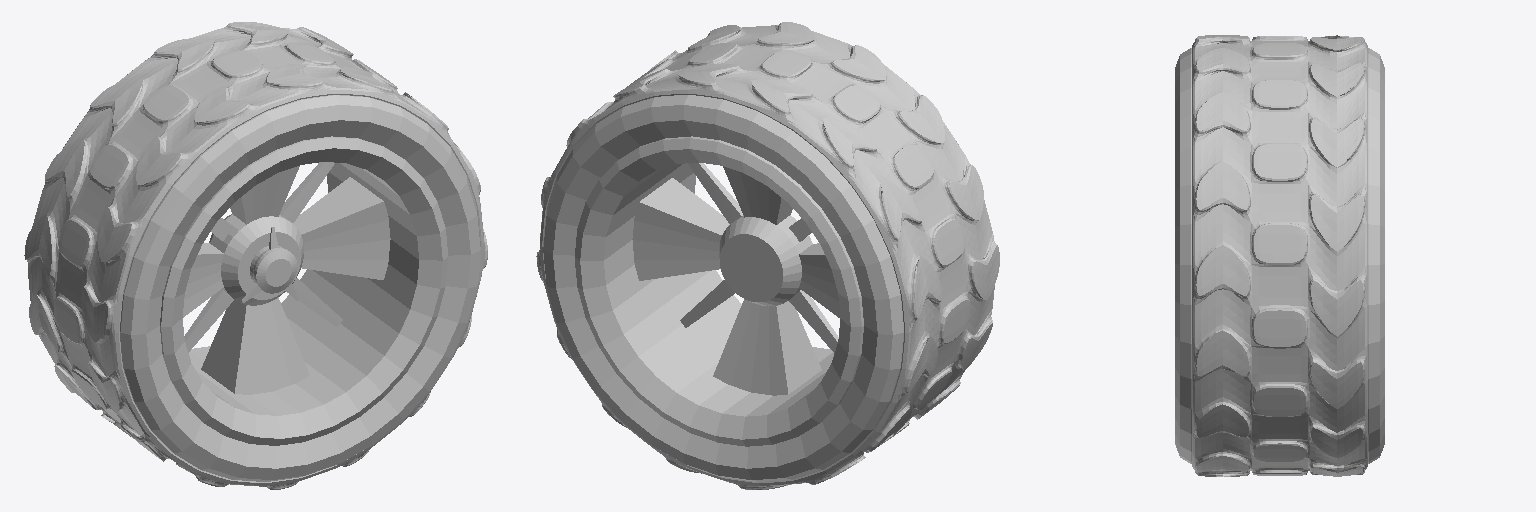
The model's file is wheel.obj.
3 renders of one model, left to right at view 1: azimuth 30°, elevation 25°; view 2: azimuth 150°, elevation 25°; view 3: azimuth 270°, elevation 25°, orthographic.
Parts seen in each view (by area): view 1: Cylinder, Cylinder.001; view 2: Cylinder, Cylinder.001; view 3: Cylinder.001, Cylinder.
Part boxes in pixels (left/top/right/bottom): Cylinder: left=120, top=95, right=480, bottom=481; Cylinder.001: left=24, top=22, right=487, bottom=489; Cylinder: left=543, top=95, right=903, bottom=481; Cylinder.001: left=536, top=22, right=999, bottom=489; Cylinder.001: left=1192, top=35, right=1367, bottom=476; Cylinder: left=1175, top=48, right=1384, bottom=463.
Bounding box in the file's own units: 3.84 × 3.84 × 1.83.